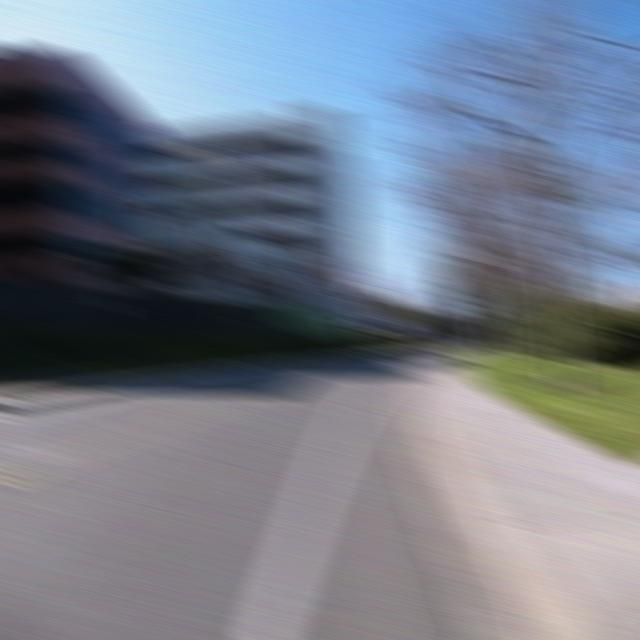speedLimit35: (468, 284, 504, 320)
